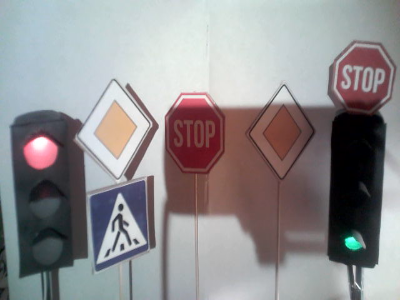crosswalk: (94, 185, 151, 264)
priority_road: (79, 81, 153, 179), (250, 85, 314, 180)
stop: (164, 92, 223, 172), (331, 43, 392, 114)
trafficlight_green: (329, 120, 384, 261)
trafficlight_red: (14, 120, 70, 272)
